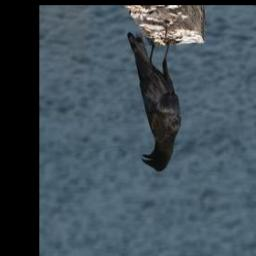Crow: (127, 30, 182, 173)
